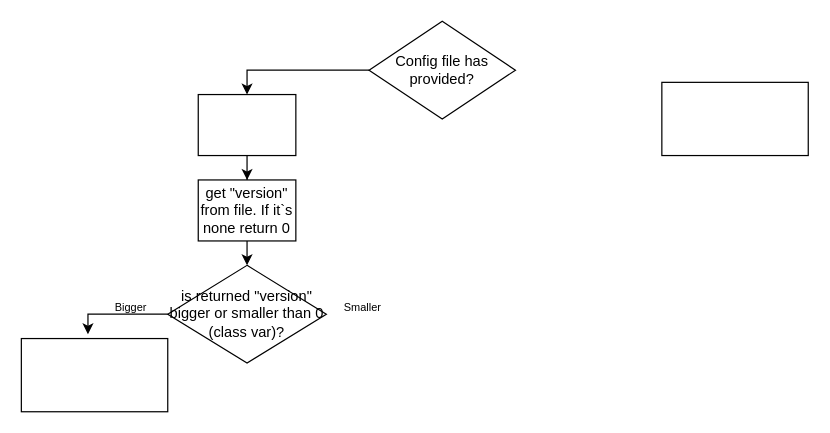
The diagram is 830 pixels wide and 433 high, and some of its shapes have lost their labels. Each missing label, with the centre of its shape:
"Load data from YAML" belongs at point (246, 124).
"raise exception IncorrectConfigVersion" belongs at point (94, 374).
